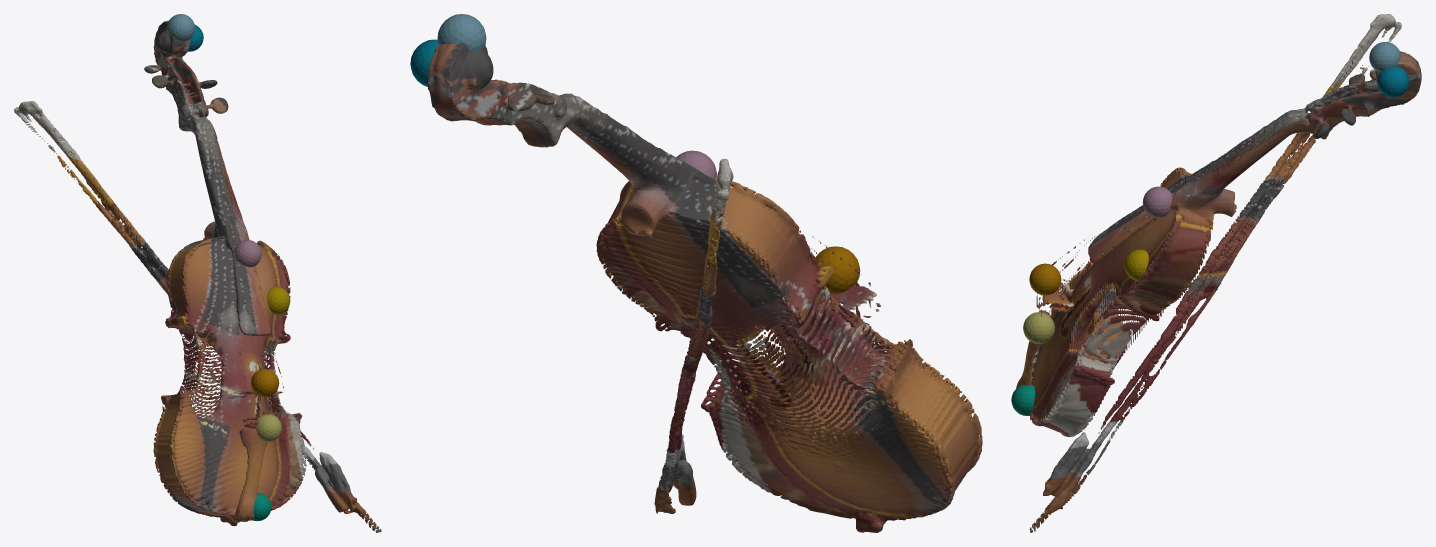
File: triposg_marked_anchors.glb
3 views of the same model, side by side, from view 1: azimuth 30°, elevation 25°; view 2: azimuth 150°, elevation 25°; view 3: azimuth 270°, elevation 25° (orthographic). The views are drawn at different scales.
Visible parts, largest first — view 1: world, anchor_00_rgb_094_041_000, anchor_04_rgb_038_079_103, anchor_03_rgb_090_053_073, anchor_06_rgb_106_100_029, anchor_05_rgb_101_070_000; view 2: world, anchor_00_rgb_094_041_000, anchor_04_rgb_038_079_103, anchor_01_rgb_000_050_078; view 3: world, anchor_00_rgb_094_041_000, anchor_06_rgb_106_100_029, anchor_01_rgb_000_050_078, anchor_03_rgb_090_053_073, anchor_04_rgb_038_079_103, anchor_02_rgb_000_070_051, anchor_05_rgb_101_070_000.
Part boxes in pixels (x1,y1,x2,y2): world: [14, 20, 381, 532]; anchor_00_rgb_094_041_000: [251, 369, 279, 396]; anchor_04_rgb_038_079_103: [167, 14, 194, 41]; anchor_03_rgb_090_053_073: [234, 240, 261, 267]; anchor_06_rgb_106_100_029: [254, 414, 281, 442]; anchor_05_rgb_101_070_000: [267, 286, 290, 314]; world: [428, 43, 982, 532]; anchor_00_rgb_094_041_000: [815, 246, 860, 294]; anchor_04_rgb_038_079_103: [437, 14, 486, 51]; anchor_01_rgb_000_050_078: [410, 39, 438, 86]; world: [1016, 14, 1421, 532]; anchor_00_rgb_094_041_000: [1029, 263, 1061, 295]; anchor_06_rgb_106_100_029: [1023, 312, 1054, 343]; anchor_01_rgb_000_050_078: [1377, 66, 1409, 97]; anchor_03_rgb_090_053_073: [1142, 186, 1172, 218]; anchor_04_rgb_038_079_103: [1369, 42, 1400, 72]; anchor_02_rgb_000_070_051: [1011, 384, 1034, 415]; anchor_05_rgb_101_070_000: [1124, 249, 1148, 280].
Bounding box in the file's own units: 0.9767 × 1.88 × 1.5.
